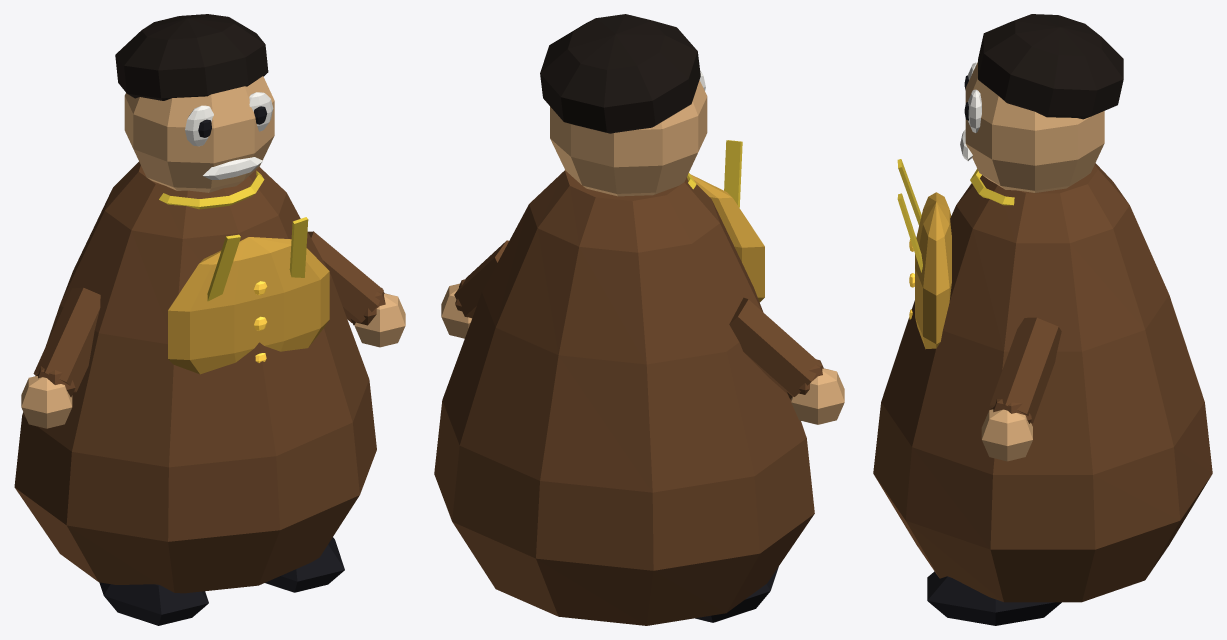
File: npc_don_cajon.glb
The picture shows the model from 3 angles, left to right: view 1: azimuth 30°, elevation 25°; view 2: azimuth 150°, elevation 25°; view 3: azimuth 270°, elevation 25°; orthographic projection. The views are drawn at different scales.
Parts seen in each view (by area): view 1: body_cajon_suit, body_cajon_vest, head_skin_trigo, hair_cajon_hair, arms_cajon_suit, legs_black, arms_skin_trigo, tape_cajon_tape, face_white, smile_white; view 2: body_cajon_suit, hair_cajon_hair, head_skin_trigo, arms_cajon_suit, arms_skin_trigo, body_cajon_vest, tape_cajon_tape, legs_black; view 3: body_cajon_suit, hair_cajon_hair, head_skin_trigo, body_cajon_vest, arms_cajon_suit, legs_black, arms_skin_trigo, tape_cajon_tape, face_white.
Part boxes in pixels (x1,y1,x2,y2): body_cajon_suit: (14, 162, 376, 593); body_cajon_vest: (168, 237, 329, 374); head_skin_trigo: (124, 76, 274, 192); hair_cajon_hair: (115, 14, 268, 100); arms_cajon_suit: (33, 231, 385, 397); legs_black: (99, 537, 344, 625); arms_skin_trigo: (21, 293, 405, 428); tape_cajon_tape: (159, 170, 308, 301); face_white: (185, 92, 273, 146); smile_white: (203, 157, 262, 179); body_cajon_suit: (434, 170, 814, 625); hair_cajon_hair: (540, 14, 700, 133); head_skin_trigo: (550, 80, 707, 196); arms_cajon_suit: (454, 240, 823, 399); arms_skin_trigo: (441, 283, 844, 424); body_cajon_vest: (690, 174, 764, 302); tape_cajon_tape: (687, 140, 742, 207); legs_black: (695, 566, 778, 622); body_cajon_suit: (873, 163, 1212, 602); hair_cajon_hair: (978, 14, 1123, 119); head_skin_trigo: (965, 62, 1104, 192); body_cajon_vest: (915, 192, 951, 349); arms_cajon_suit: (989, 317, 1061, 423); legs_black: (927, 571, 1061, 625); arms_skin_trigo: (981, 409, 1032, 461); tape_cajon_tape: (897, 159, 1014, 272); face_white: (968, 62, 981, 132).
Size of the model in its own units: 1.13 by 1.56 by 0.86.
